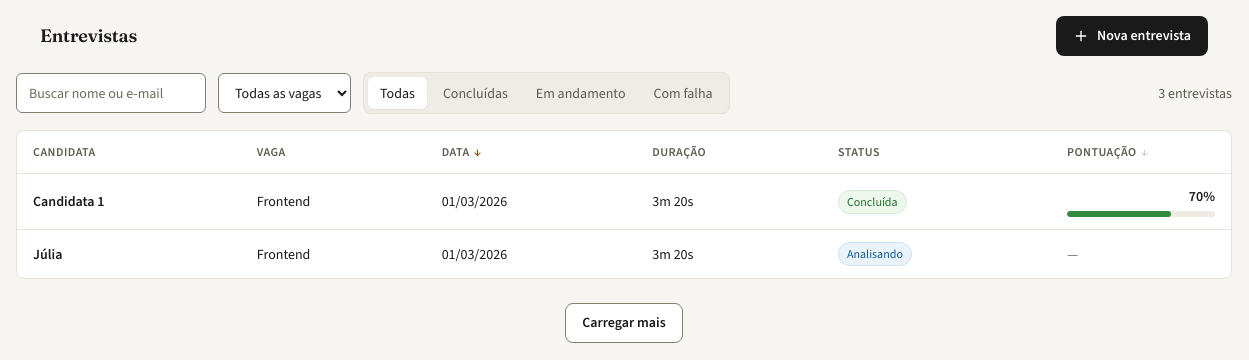
Scenario: Carregar mais busca a próxima página
What coordinates should you click on to do the following:
click the button "Carregar mais"
I would click on:
 (624, 323)
Its box is 565,303 -> 683,343.
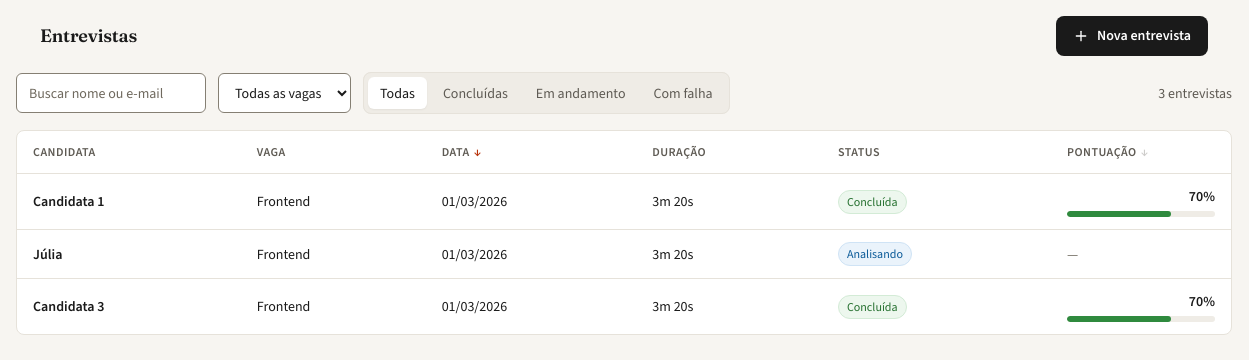
Expected: the link "Candidata 3" is shown, 33,297 -> 105,316
Expected: the button "Carregar mais" is gone
